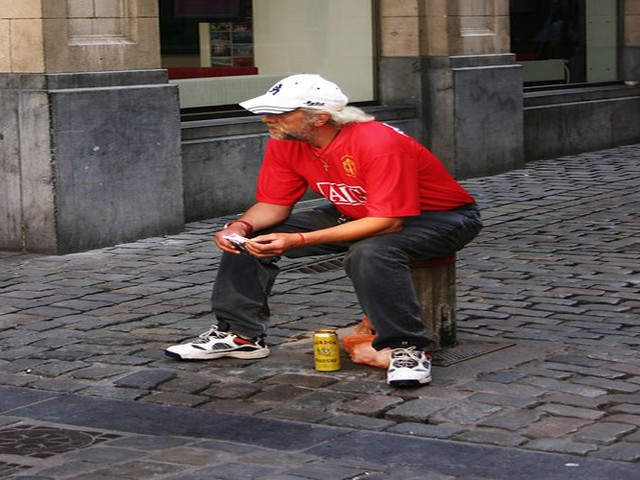Person: (191, 71, 485, 383)
